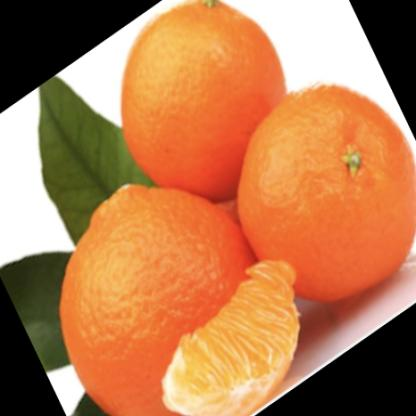fresh: (61, 6, 416, 415)
